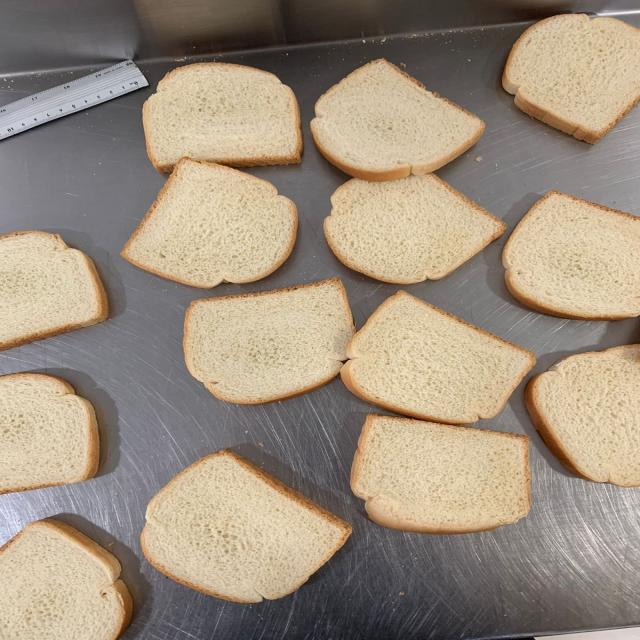sliced_bread: (139, 451, 355, 602), (340, 291, 538, 424), (121, 157, 299, 289), (352, 414, 530, 535), (310, 60, 485, 183), (184, 278, 353, 404), (324, 172, 507, 285), (502, 14, 640, 145), (503, 191, 640, 320), (143, 62, 301, 173)
